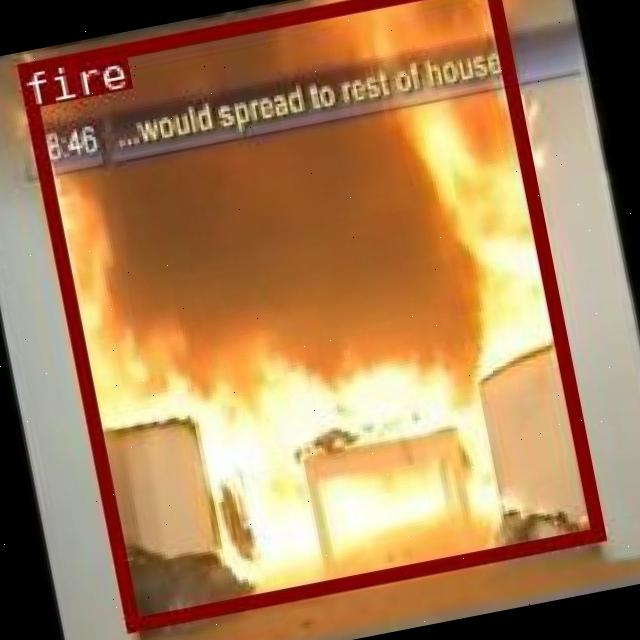fire: (16, 0, 602, 629)
